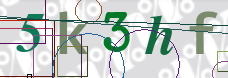3: (102, 10, 131, 54)
5: (15, 12, 44, 54)
f: (188, 10, 219, 56)
h: (143, 13, 175, 57)
k: (58, 10, 87, 56)
